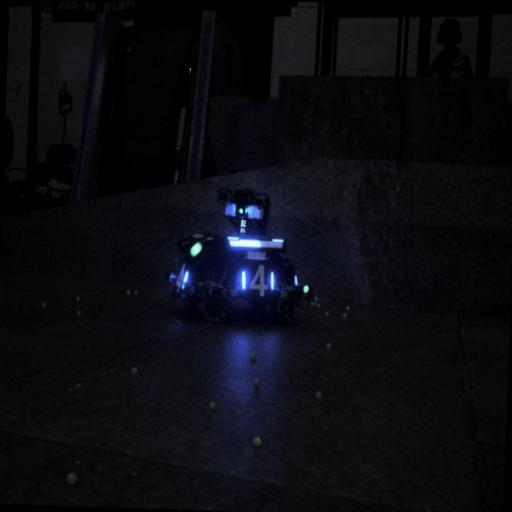target: (234, 258, 281, 302), (170, 256, 192, 302)
